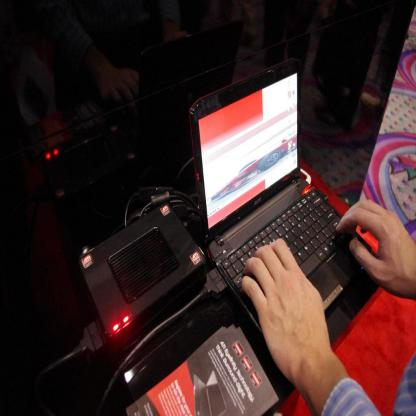board: (184, 66, 372, 344), (136, 22, 243, 138)
